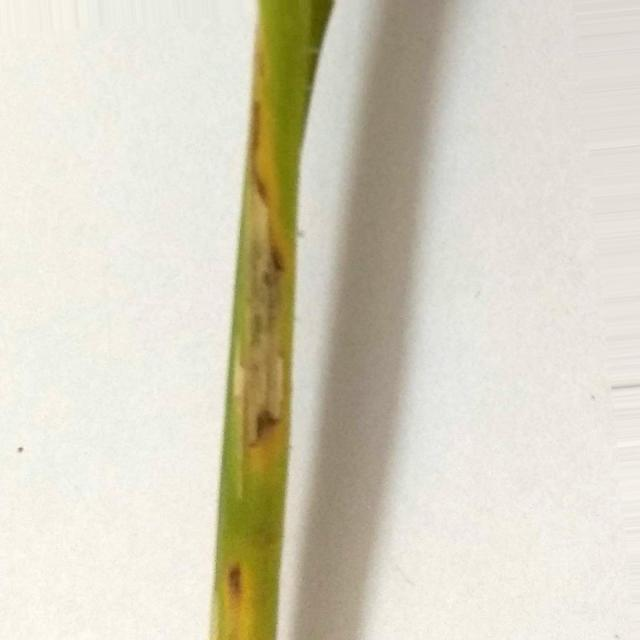Brown_Spot: (222, 60, 308, 494), (225, 564, 244, 599)
